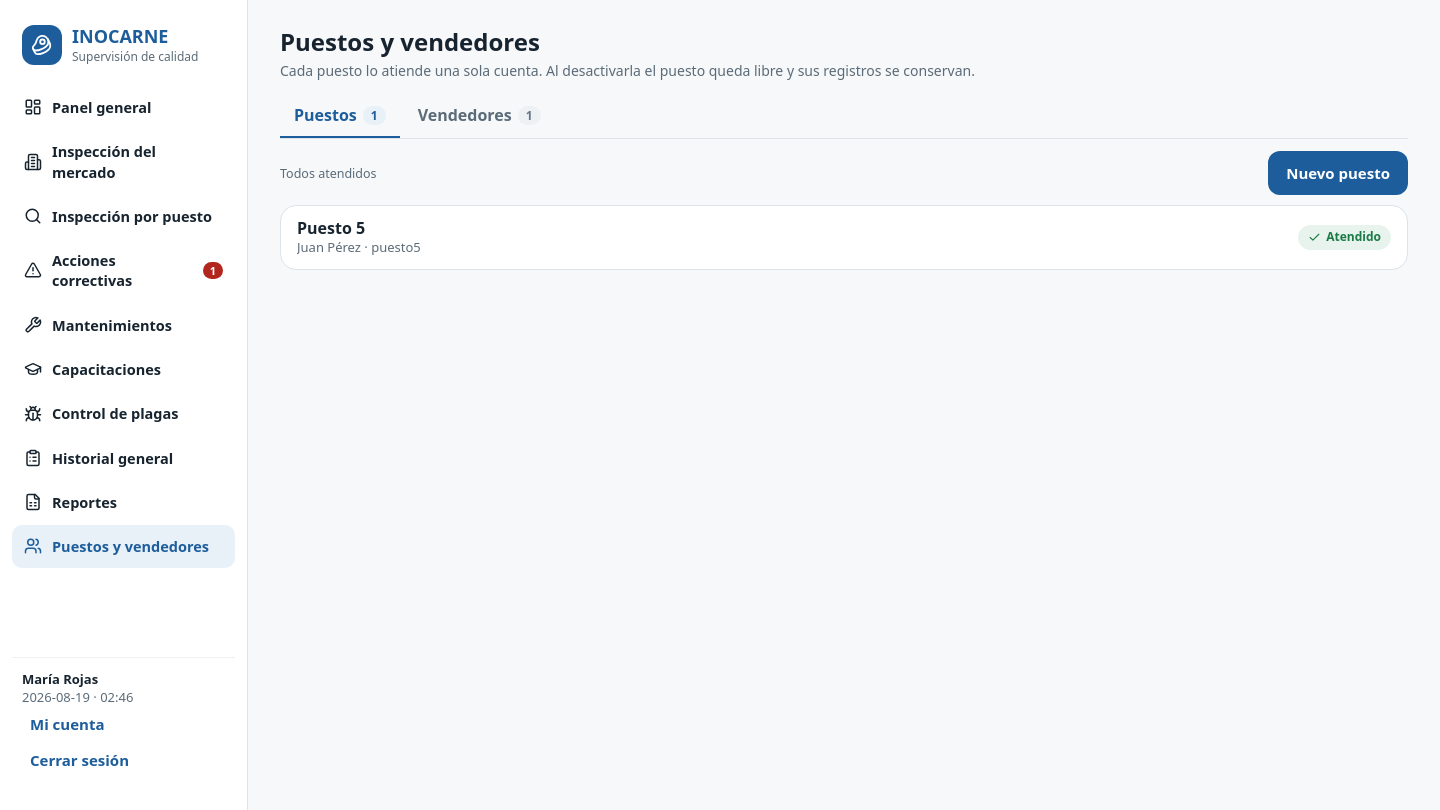
puestos y vendedores › explica qué hacer cuando todos los puestos están atendidos
Click the tab "Vendedores 1". click: (479, 117)
box: [404, 94, 555, 139]
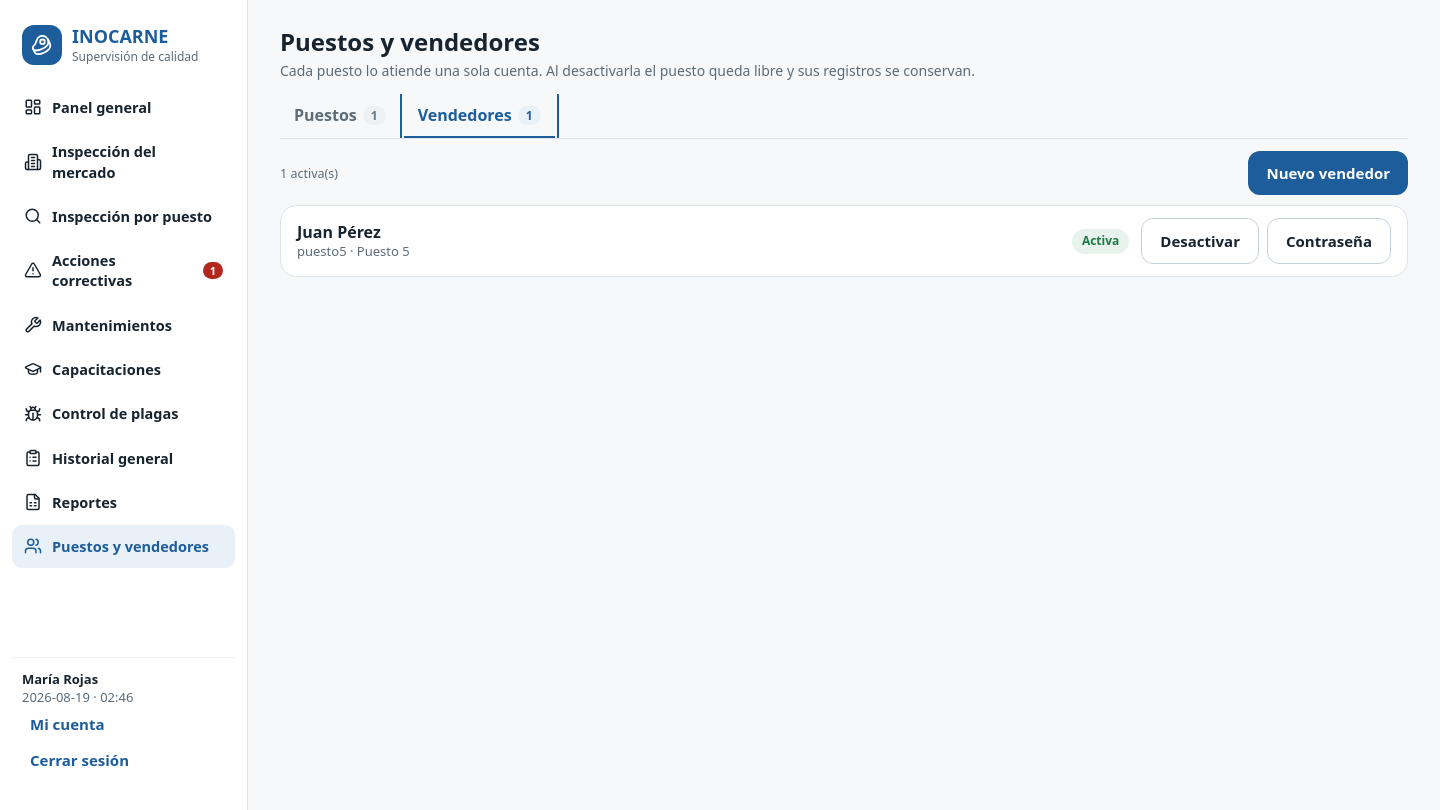
Click the button "Nuevo vendedor". click: (1328, 173)
box: [1248, 151, 1408, 195]
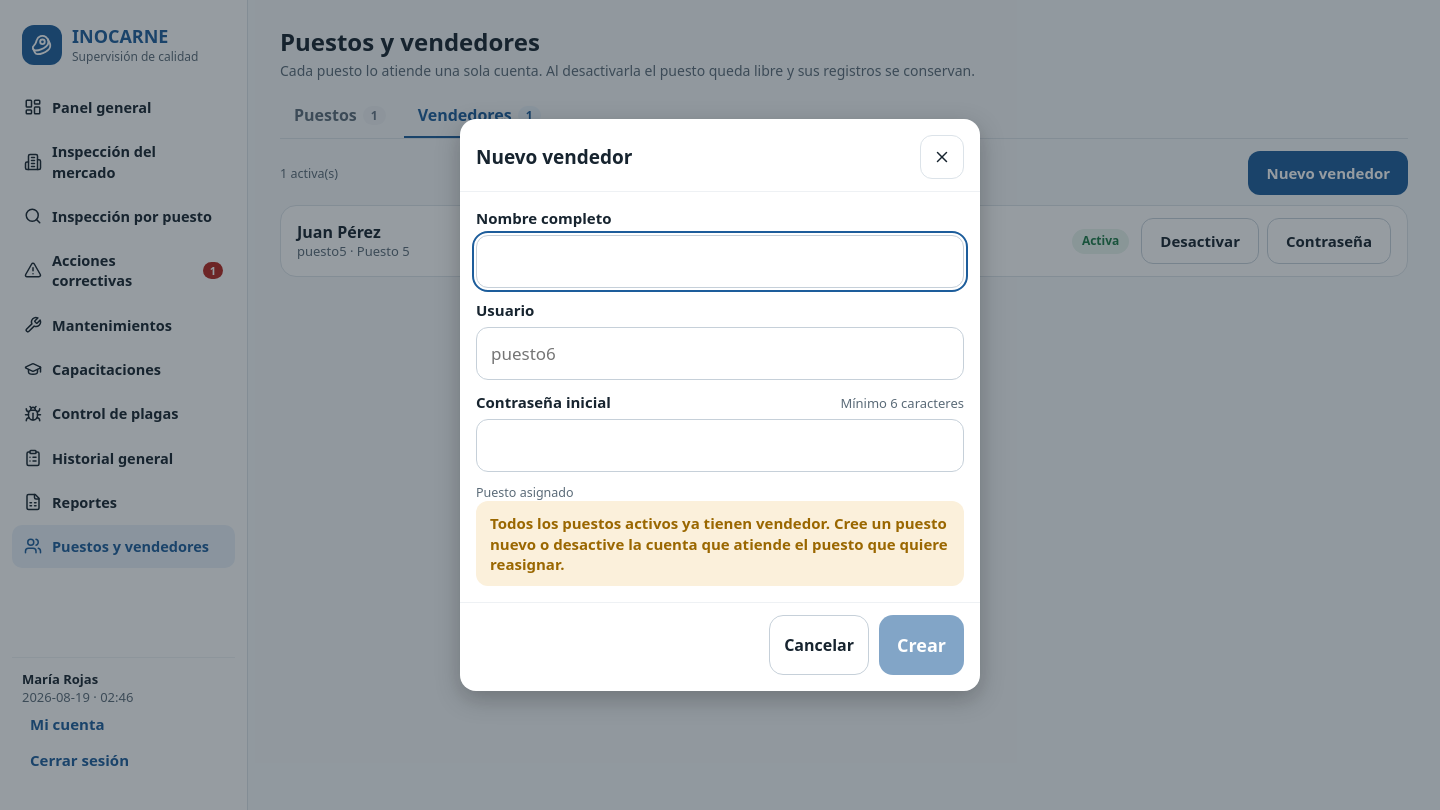
Expected: the text "Todos los puestos activos ya tienen vendedor" is shown, [490, 513, 948, 574]
